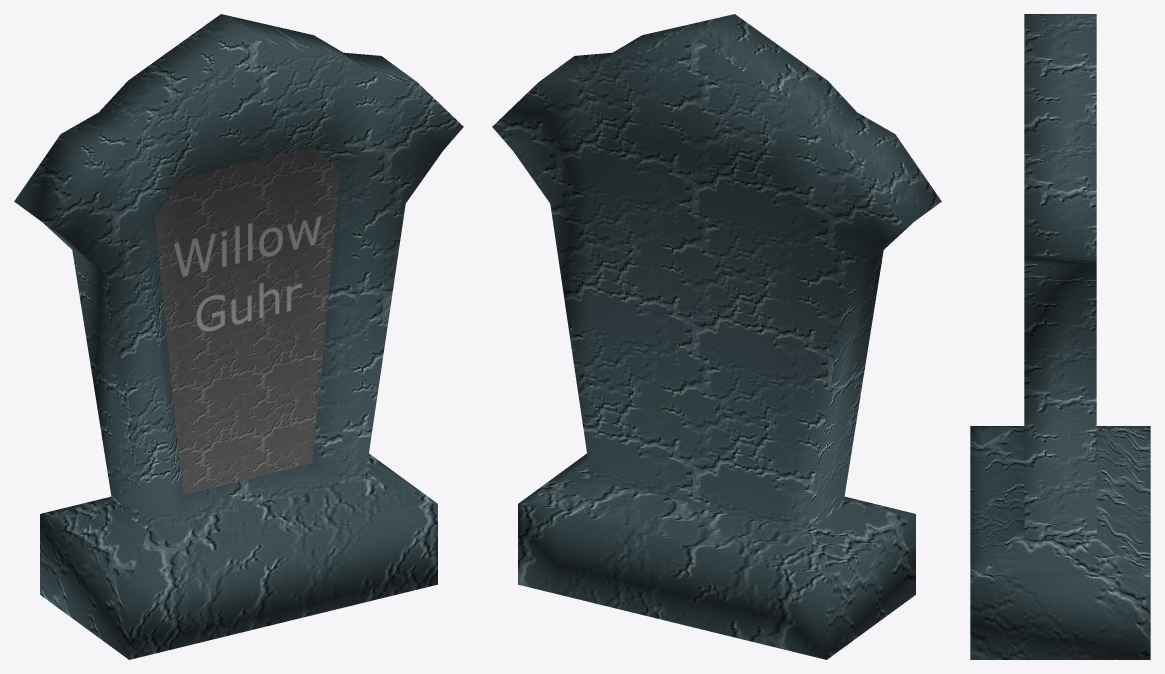
Rendered from Gravestone 2.fbx.
3 views of the same model, side by side, from view 1: azimuth 30°, elevation 25°; view 2: azimuth 150°, elevation 25°; view 3: azimuth 270°, elevation 25° (orthographic).
Parts seen in each view (by area): view 1: Cube; view 2: Cube; view 3: Cube.
Boxes of the visible parts, box(x1,y1,x2,y2) form: Cube: box(14, 14, 463, 659); Cube: box(492, 14, 941, 659); Cube: box(970, 14, 1150, 659).
Size of the model in its own units: 2 by 5.36 by 6.96.
1 material, 1 textured.
